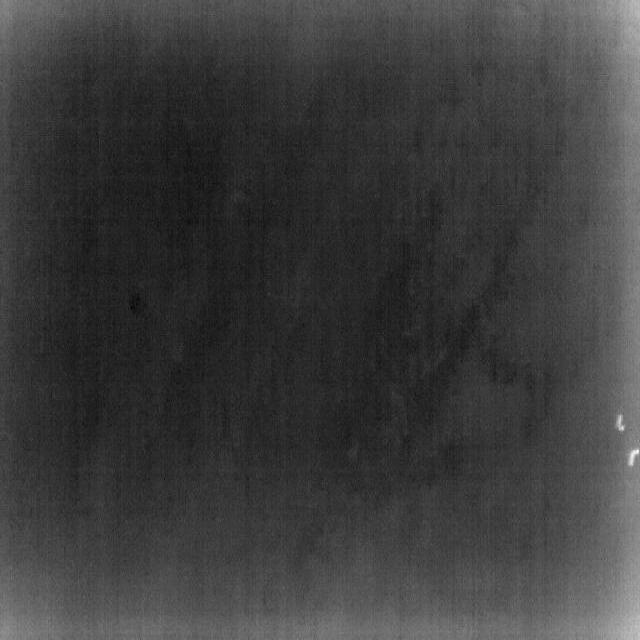deer: (627, 447, 640, 468), (616, 414, 626, 432)
